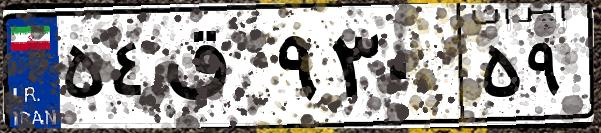0: (385, 28, 445, 110)
3: (330, 28, 385, 110)
4: (110, 28, 158, 98)
5: (57, 26, 110, 100), (475, 38, 525, 113)
9: (270, 28, 330, 110), (525, 38, 570, 115)
ق: (158, 20, 270, 120)
